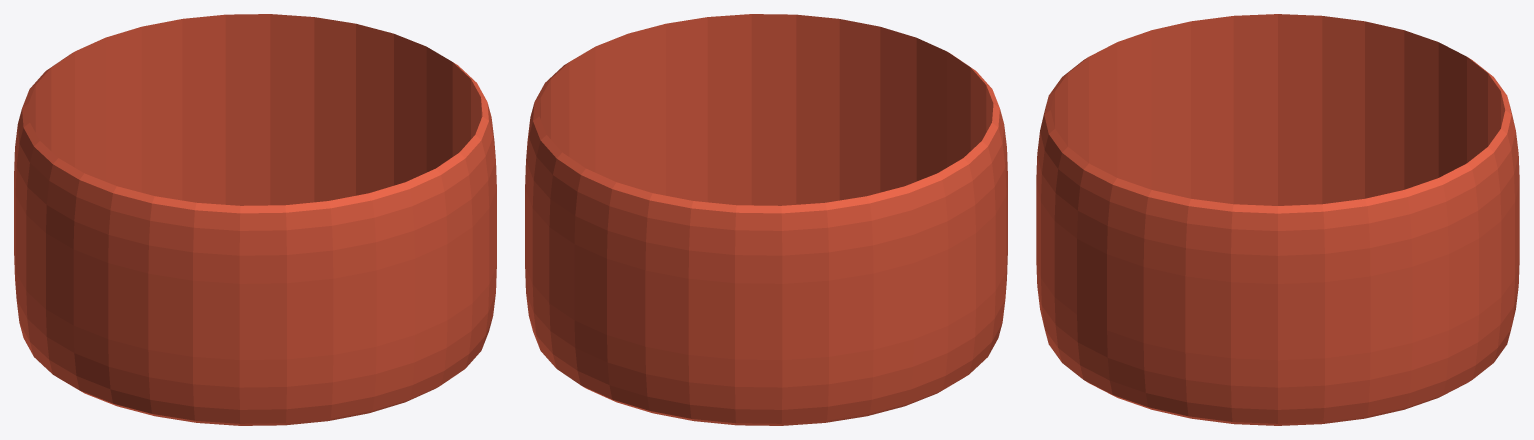
Rendered from collider_circle.fbx.
3 renders of one model, left to right at view 1: azimuth 30°, elevation 25°; view 2: azimuth 150°, elevation 25°; view 3: azimuth 270°, elevation 25°, orthographic.
Visible parts, largest first — view 1: Circle.001; view 2: Circle.001; view 3: Circle.001.
Part boxes in pixels (box(x1,y1,x2,y2)): Circle.001: box(14, 14, 496, 425); Circle.001: box(525, 14, 1007, 425); Circle.001: box(1036, 14, 1519, 425).
Size of the model in its own units: 728 by 365 by 728.
